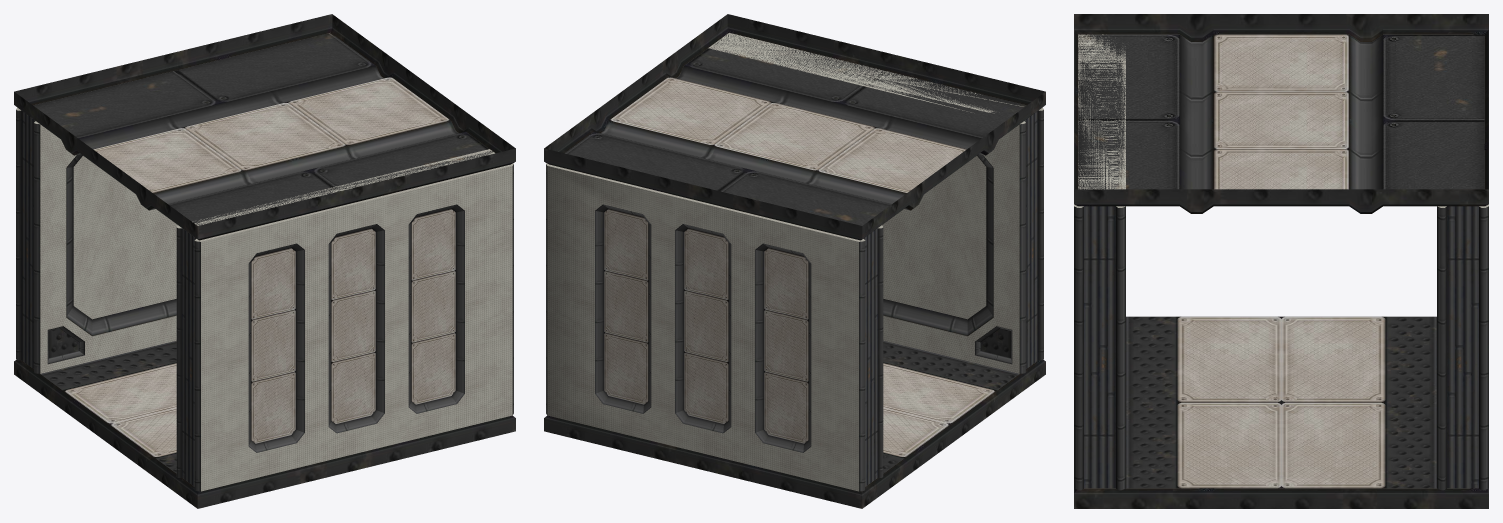
Rendered from Corridor_Corridor_Rework.fbx.
The picture shows the model from 3 angles, left to right: view 1: azimuth 30°, elevation 25°; view 2: azimuth 150°, elevation 25°; view 3: azimuth 270°, elevation 25°; orthographic projection. The views are drawn at different scales.
Visible parts, largest first — view 1: Corridor_Corridor_Rework; view 2: Corridor_Corridor_Rework; view 3: Corridor_Corridor_Rework.
Part boxes in pixels (box(x1,y1,x2,y2)): Corridor_Corridor_Rework: box(14, 14, 515, 508); Corridor_Corridor_Rework: box(544, 14, 1045, 508); Corridor_Corridor_Rework: box(1074, 14, 1488, 508).
Size of the model in its own units: 400 by 340 by 400.
